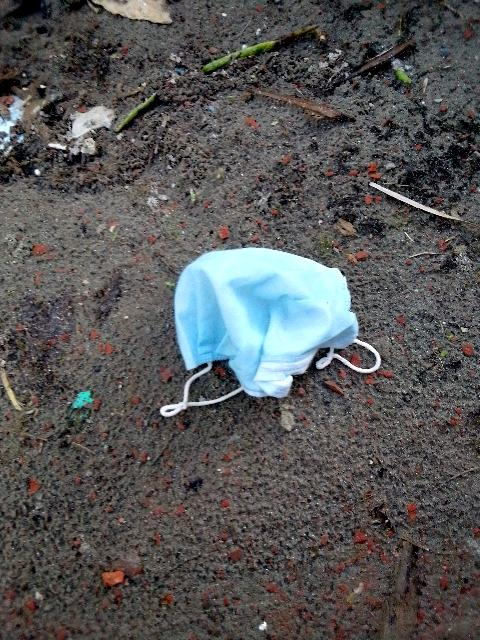mask: (163, 237, 397, 443)
